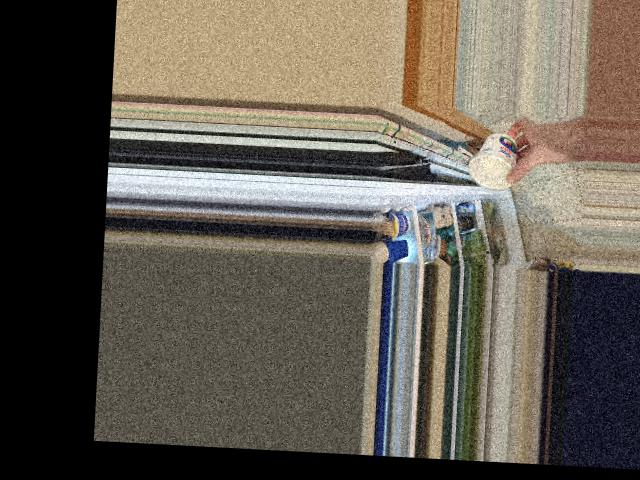cotage: (461, 133, 518, 187)
